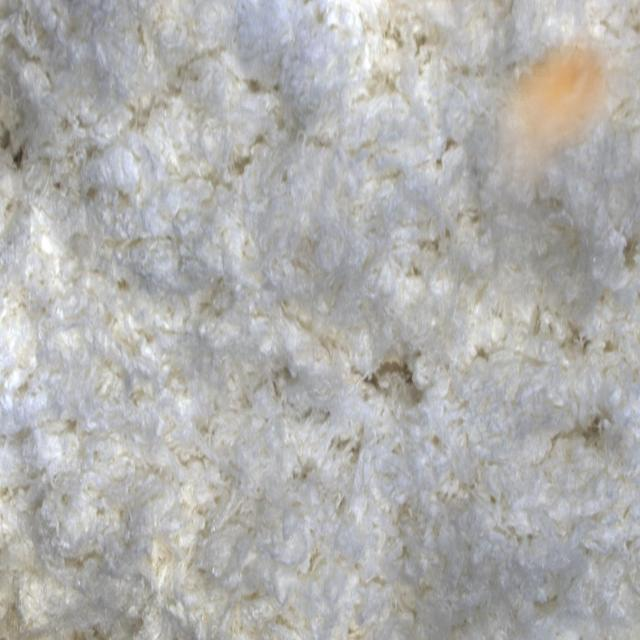dust: (481, 28, 640, 247)
